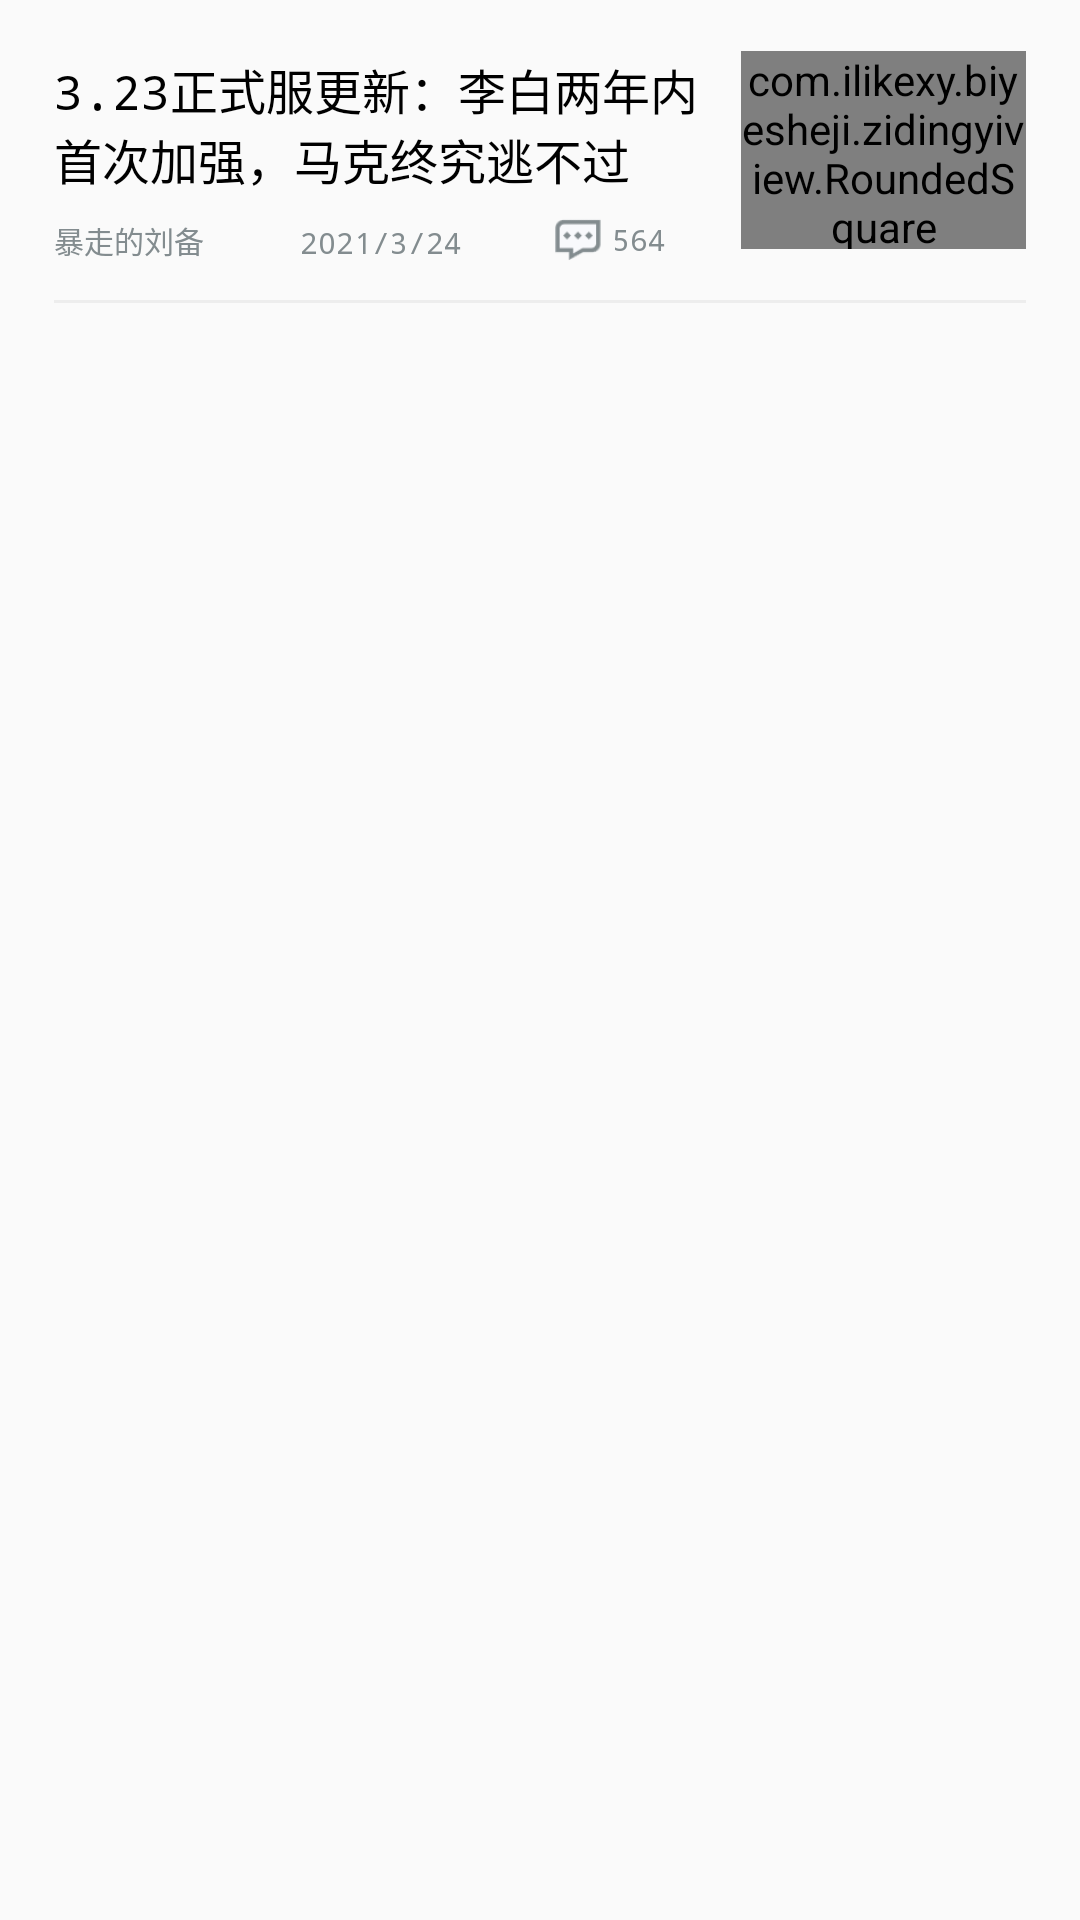

Screen size 1080*1920. Icon name, then its box in pixels as box=[x1, y1, x2, y2]:
pinglun: box=[555, 220, 601, 260]
